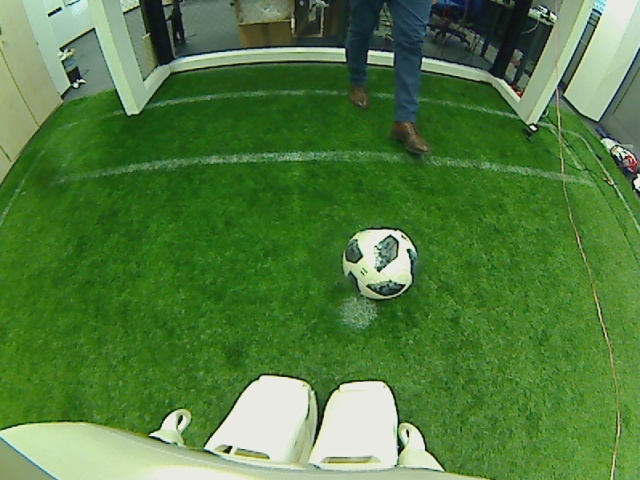ball: (339, 226, 419, 300)
